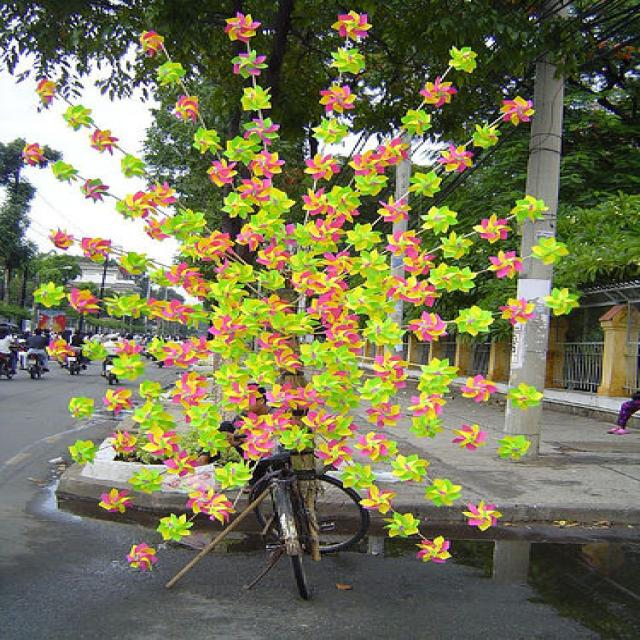motor: (56, 346, 85, 376), (99, 353, 120, 386), (25, 354, 41, 378), (0, 352, 13, 379)
